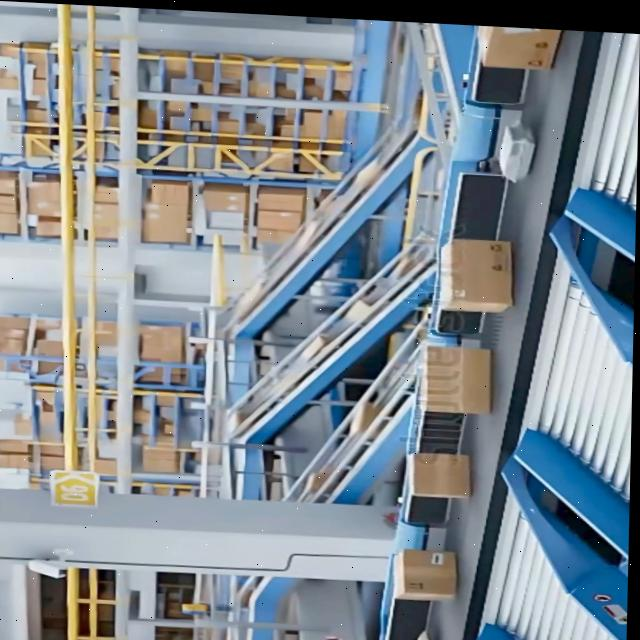product 1: (437, 236, 514, 314), (419, 344, 492, 414), (392, 547, 458, 602), (408, 451, 472, 499)
